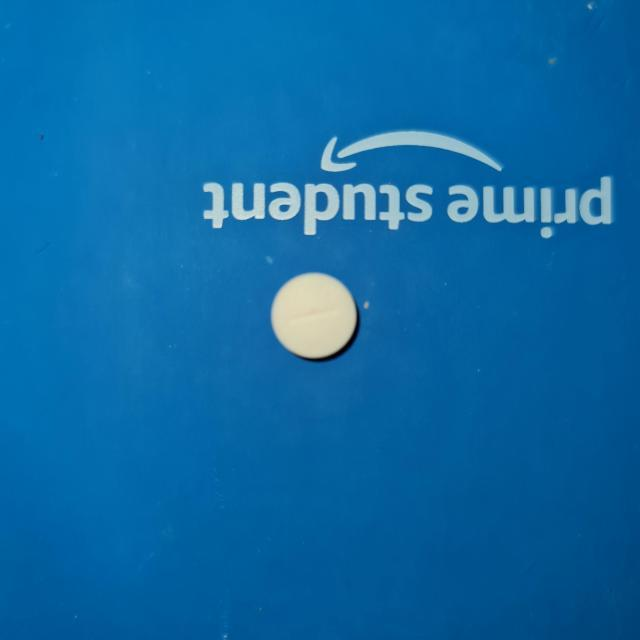pill: (268, 270, 356, 362)
